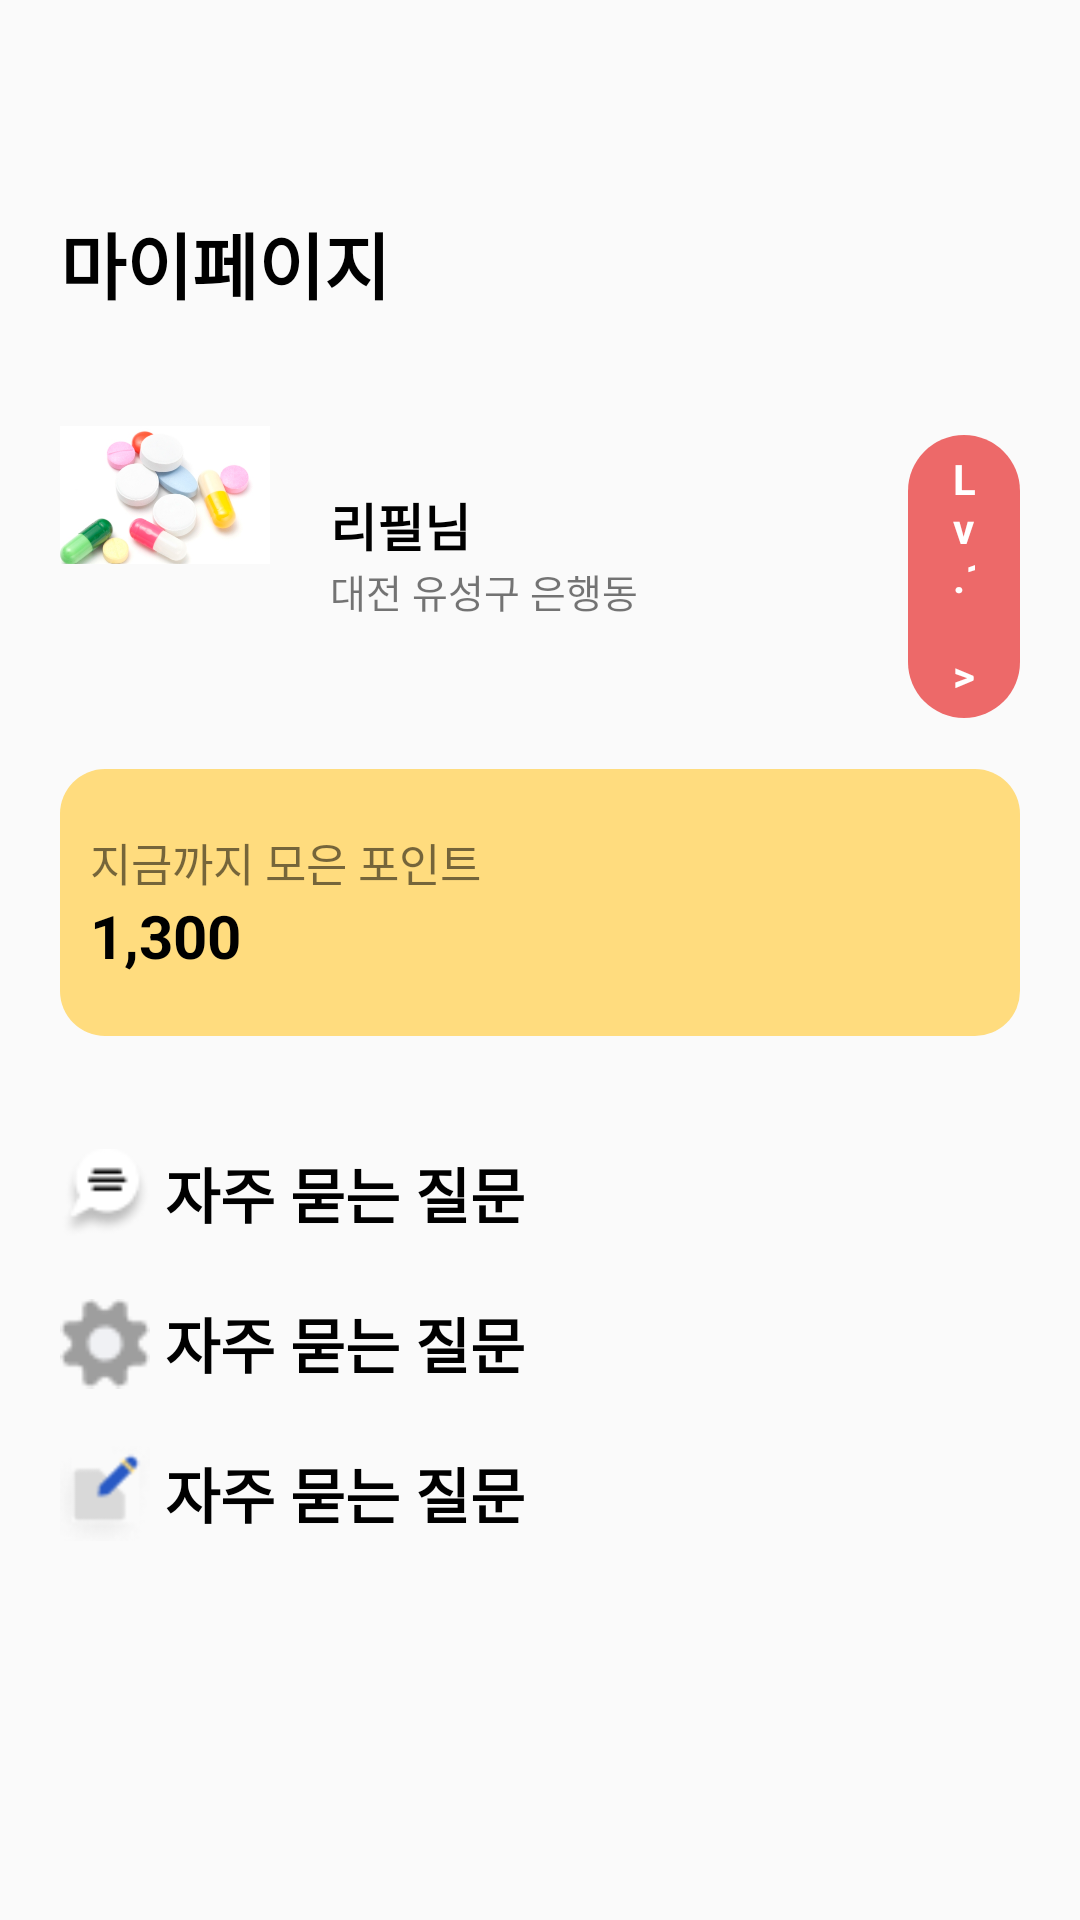

Where to tap for icons on this 1080px x 1920px app screen, as (x=x, y=y):
cog: (x=105, y=1343)
message: (x=106, y=1196)
pencil: (x=107, y=1487)
pill: (x=155, y=497)
